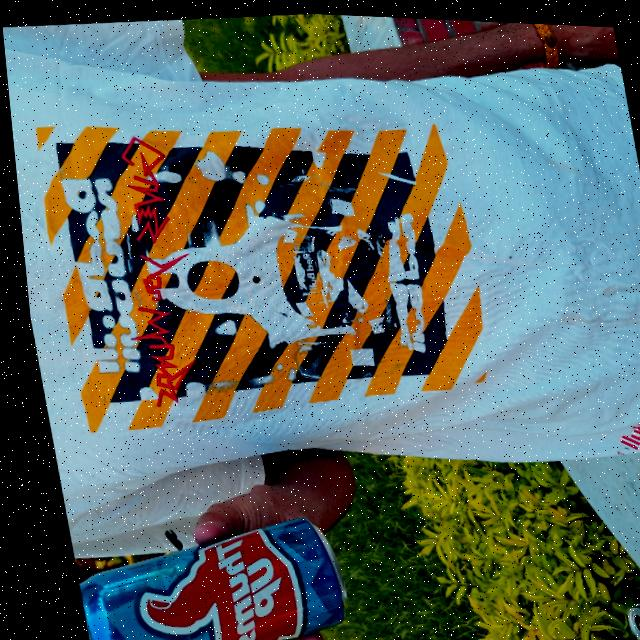Monster LH44: (606, 573, 640, 640)
Thums Up: (57, 513, 342, 640)
